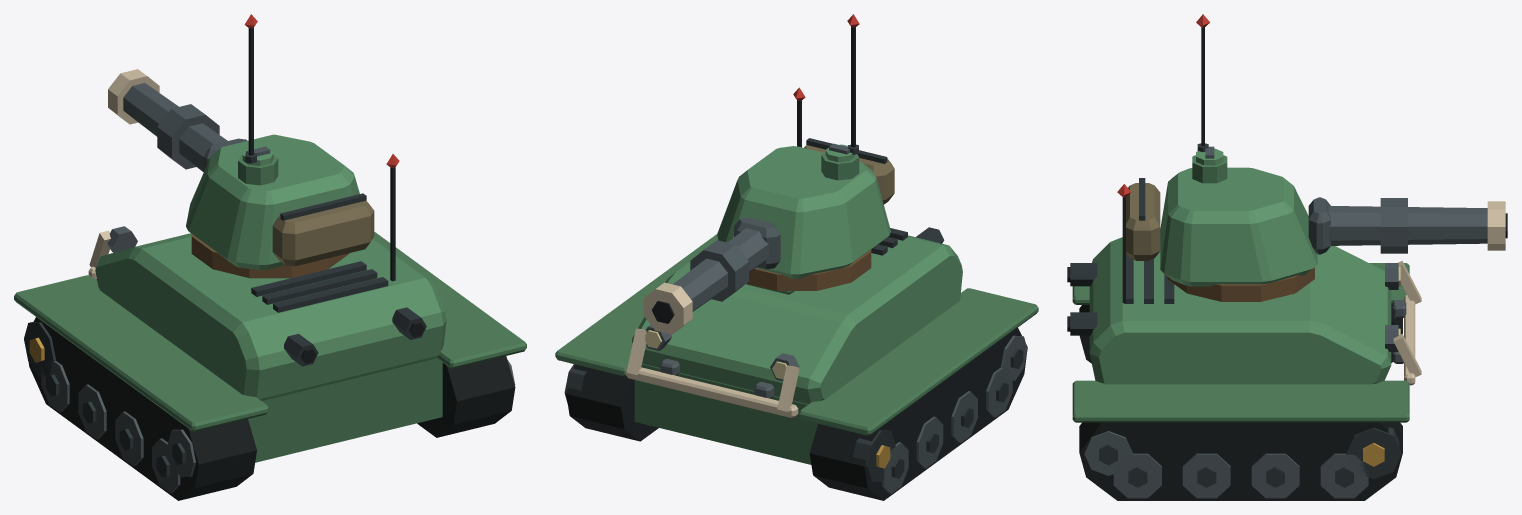
3 views of the same model, side by side, from view 1: azimuth 30°, elevation 25°; view 2: azimuth 150°, elevation 25°; view 3: azimuth 270°, elevation 25° (orthographic). The views are drawn at different scales.
Visible parts, largest first — view 1: hull_02, turret_02; view 2: hull_02, turret_02; view 3: hull_02, turret_02.
Part boxes in pixels (<box>): hull_02: <box>14,154,526,500</box>; turret_02: <box>108,14,374,278</box>; hull_02: <box>555,87,1038,500</box>; turret_02: <box>643,14,894,334</box>; hull_02: <box>1067,184,1421,500</box>; turret_02: <box>1126,14,1507,301</box>.
Bounding box in the file's own units: 0.805 × 0.9738 × 0.98.
